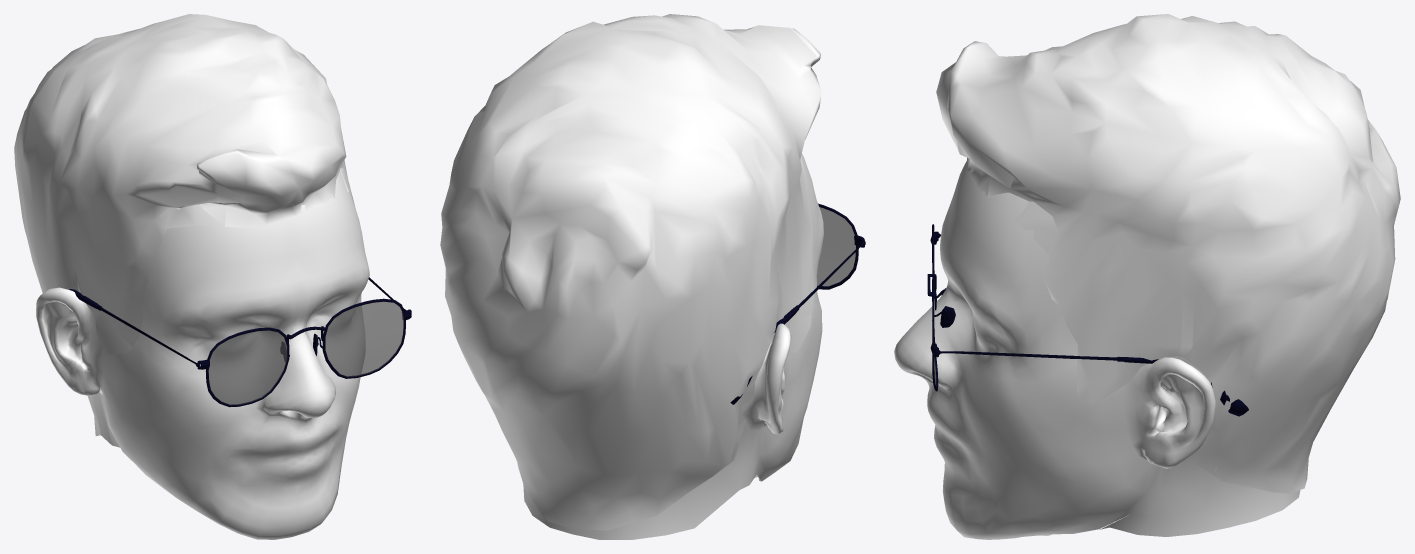
The model's file is sankeshwari.glb.
3 views of the same model, side by side, from view 1: azimuth 30°, elevation 25°; view 2: azimuth 150°, elevation 25°; view 3: azimuth 270°, elevation 25° (orthographic). The views are drawn at different scales.
Parts seen in each view (by area): view 1: polySurface1, polySurface118, polySurface117, polySurface116, polySurface9; view 2: polySurface118, polySurface1, polySurface3, polySurface116; view 3: polySurface118, polySurface1, polySurface2.
Part boxes in pixels (box(x1,y1,x2,y2)): polySurface1: box(36, 172, 369, 539); polySurface118: box(14, 14, 354, 354); polySurface117: box(325, 301, 403, 376); polySurface116: box(208, 330, 287, 405); polySurface9: box(207, 328, 289, 407); polySurface118: box(440, 14, 821, 530); polySurface1: box(740, 153, 823, 489); polySurface3: box(573, 373, 758, 539); polySurface116: box(816, 207, 855, 286); polySurface118: box(936, 14, 1400, 493); polySurface1: box(894, 161, 1215, 539); polySurface2: box(1099, 357, 1300, 536).
Bounding box in the file's own units: 5.65 × 8.01 × 7.47.
